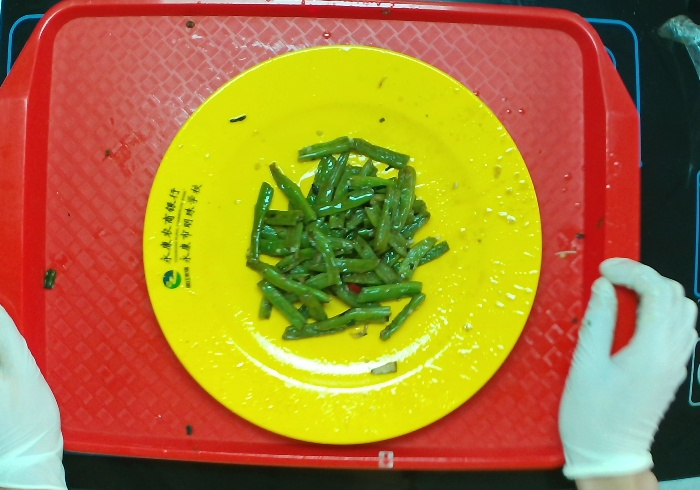YKMZ-Huang_Se_Mian_Pan: (140, 40, 545, 447)
